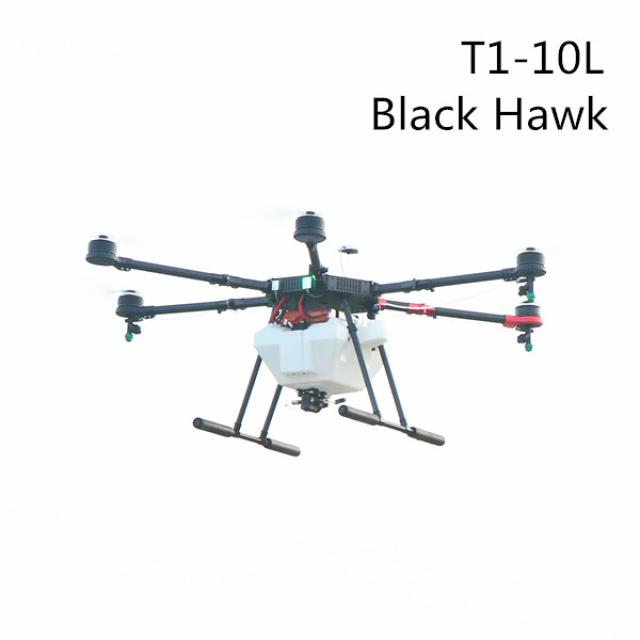drone: (51, 169, 585, 473)
